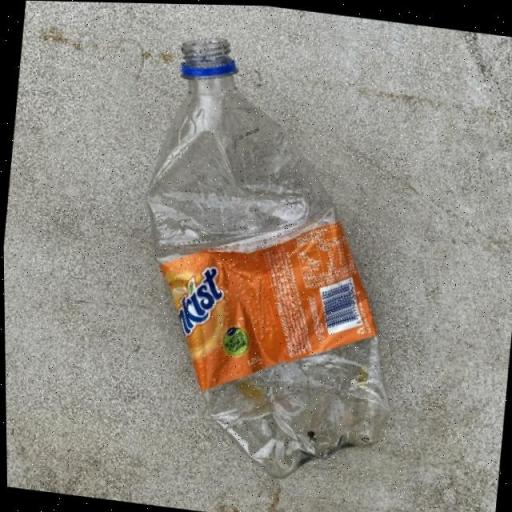plastic: (114, 26, 426, 488)
